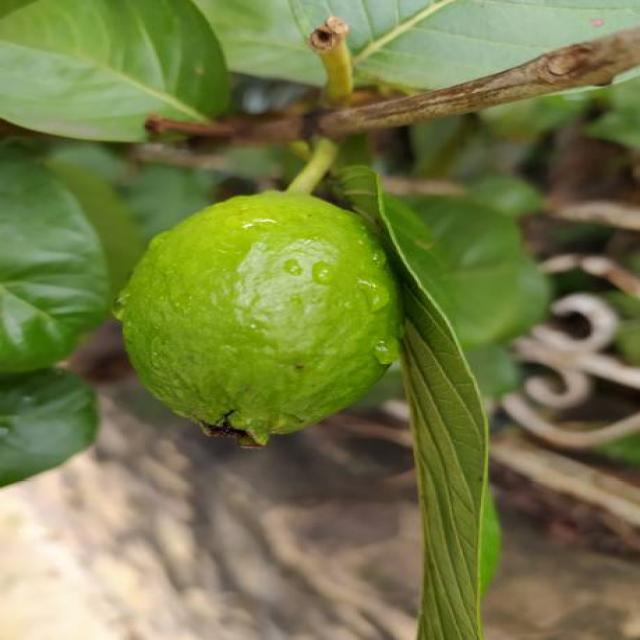Lemon: (116, 187, 407, 446)
